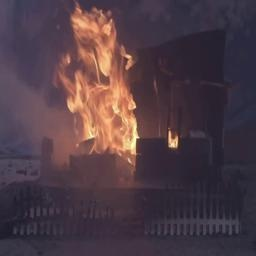fire: (56, 4, 153, 164)
